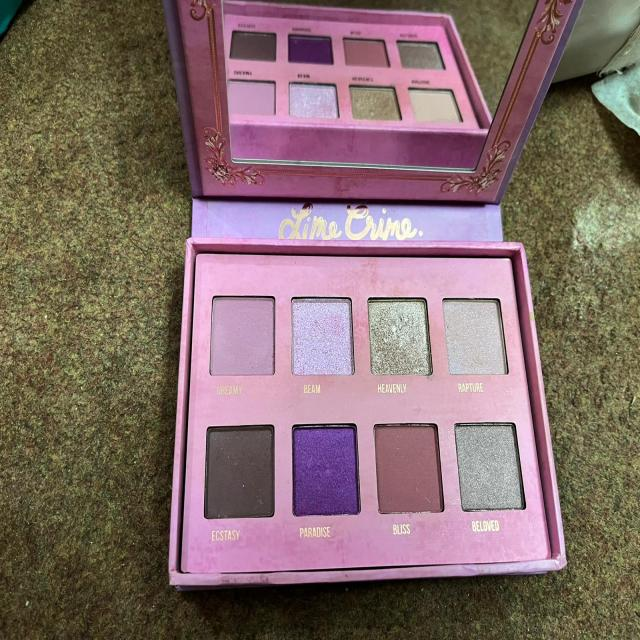eye shade: (196, 417, 280, 525), (286, 419, 365, 524), (369, 420, 450, 520)
highlighter: (204, 286, 286, 391), (452, 416, 530, 524), (437, 284, 513, 390), (285, 284, 362, 384), (364, 287, 437, 388)
